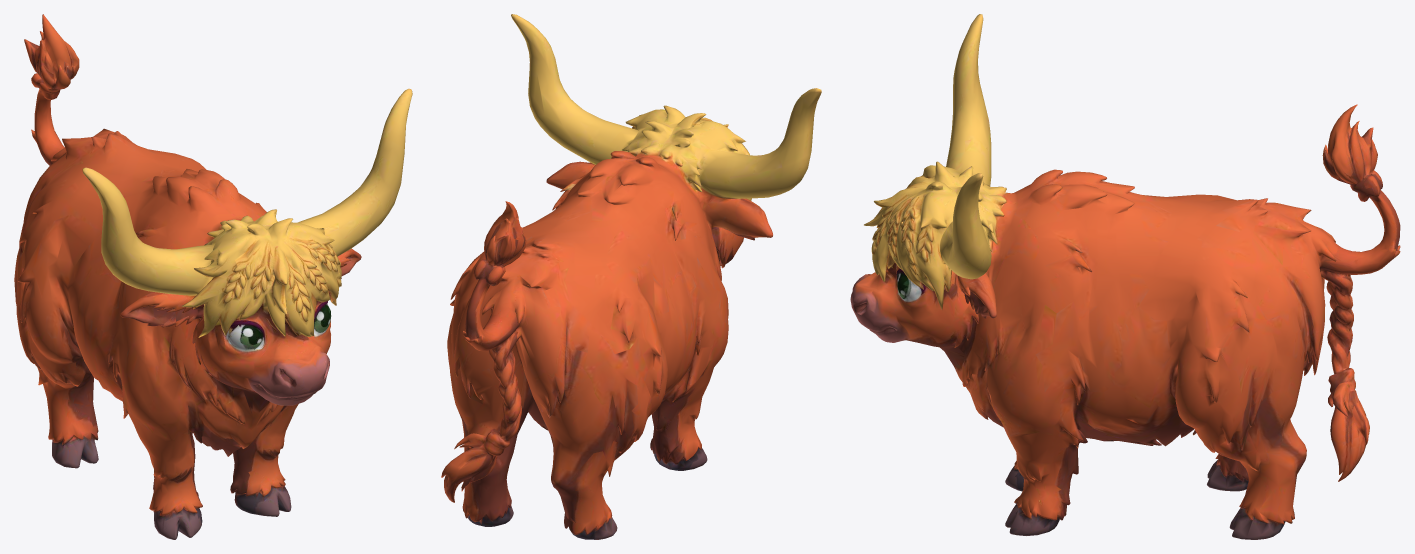
Rendered from heatherhorn.glb.
3 views of the same model, side by side, from view 1: azimuth 30°, elevation 25°; view 2: azimuth 150°, elevation 25°; view 3: azimuth 270°, elevation 25° (orthographic). The views are drawn at different scales.
Parts seen in each view (by area): view 1: Mesh_0; view 2: Mesh_0; view 3: Mesh_0.
Boxes of the visible parts, x1,y1,x2,y2 form: Mesh_0: (14, 14, 412, 539); Mesh_0: (441, 14, 821, 539); Mesh_0: (850, 14, 1400, 539).
Size of the model in its own units: 1.33 by 1.57 by 1.9.
1 material, 1 textured.
